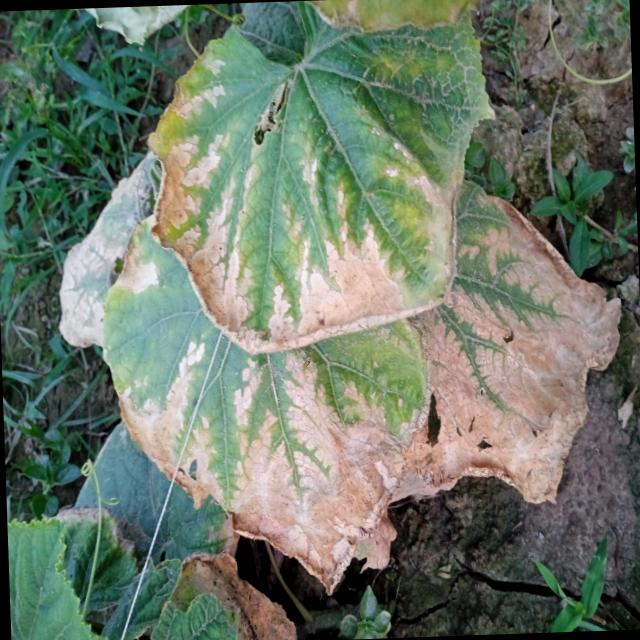cucumber_gummy: (46, 124, 640, 608), (138, 0, 519, 359), (145, 547, 314, 640)
